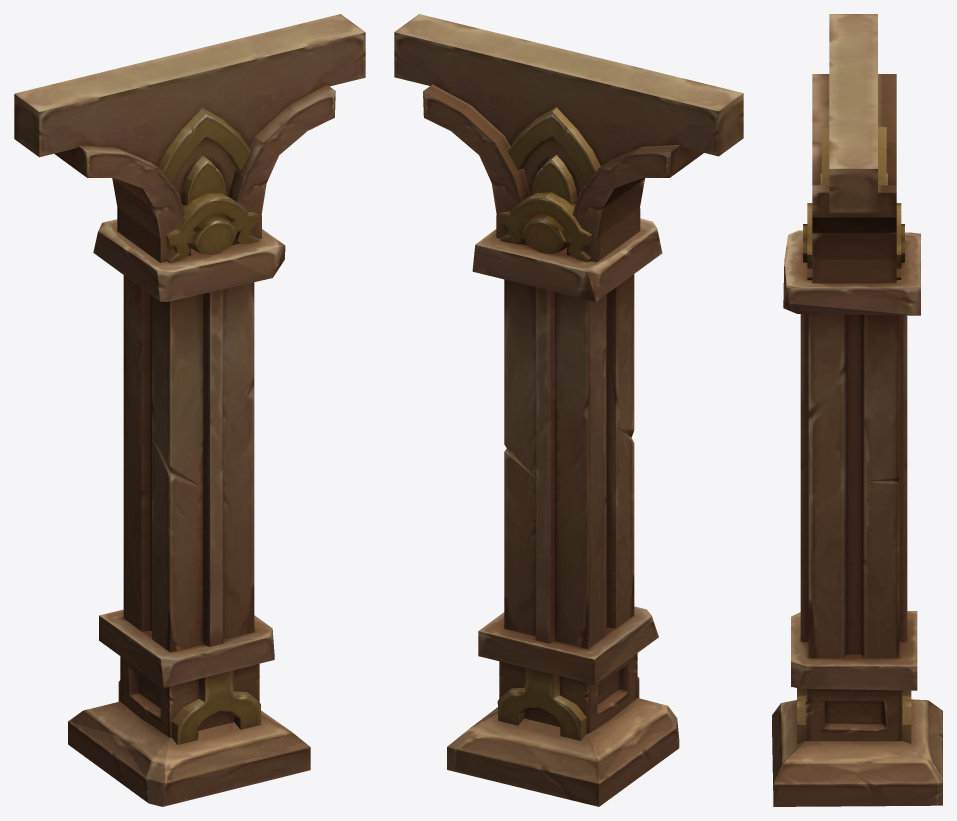
The model's file is Zhuzi1(2).FBX.
The picture shows the model from 3 angles, left to right: view 1: azimuth 30°, elevation 25°; view 2: azimuth 150°, elevation 25°; view 3: azimuth 270°, elevation 25°; orthographic projection. The views are drawn at different scales.
Visible parts, largest first — view 1: mesh_humanlife_props_01; view 2: mesh_humanlife_props_01; view 3: mesh_humanlife_props_01.
Boxes of the visible parts, <box> form: mesh_humanlife_props_01: <box>14,14,365,806</box>; mesh_humanlife_props_01: <box>394,14,743,806</box>; mesh_humanlife_props_01: <box>772,14,942,806</box>.
Bounding box in the file's own units: 299 × 609 × 139.
